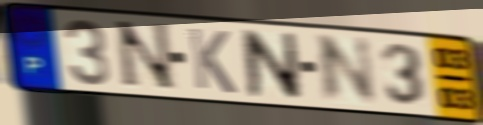3: (63, 17, 111, 87), (377, 41, 426, 107)
K: (185, 25, 239, 97)
N: (113, 19, 180, 93), (239, 27, 304, 103), (315, 33, 380, 105)
